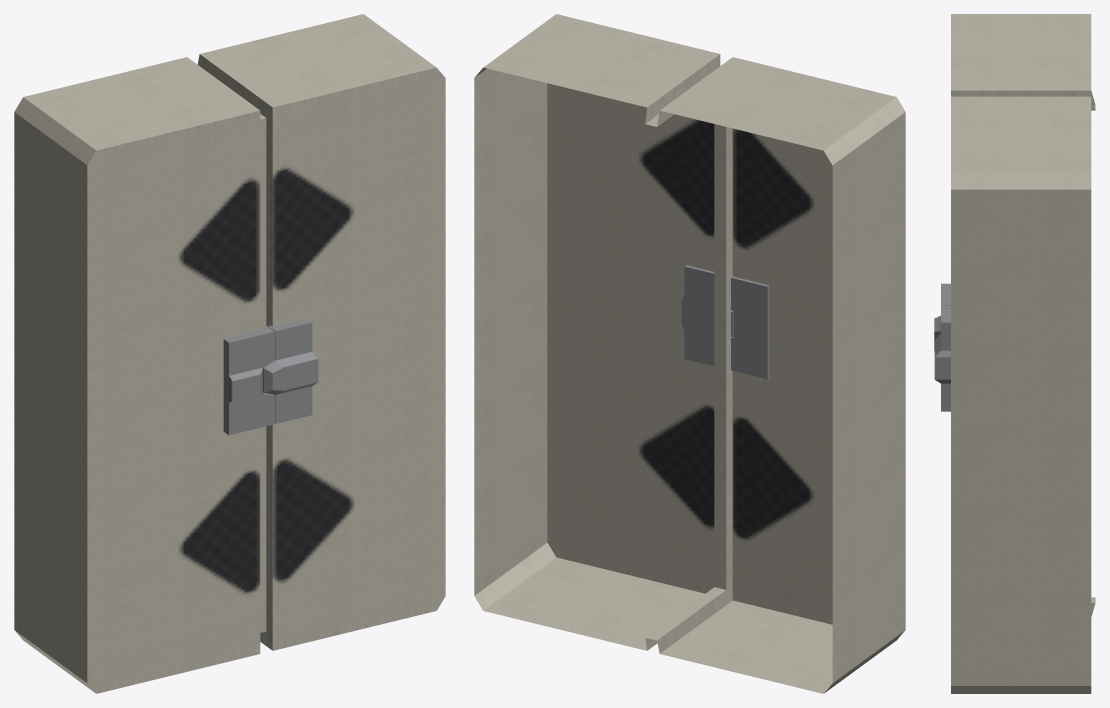
The model's file is WallpolySurface67.fbx.
3 views of the same model, side by side, from view 1: azimuth 30°, elevation 25°; view 2: azimuth 150°, elevation 25°; view 3: azimuth 270°, elevation 25° (orthographic). The views are drawn at different scales.
Parts seen in each view (by area): view 1: polySurface67; view 2: polySurface67; view 3: polySurface67.
Part boxes in pixels (x1,y1,x2,y2): polySurface67: [14, 14, 445, 693]; polySurface67: [474, 14, 905, 693]; polySurface67: [934, 14, 1095, 693].
Size of the model in its own units: 24.35 by 35.29 by 9.9.
